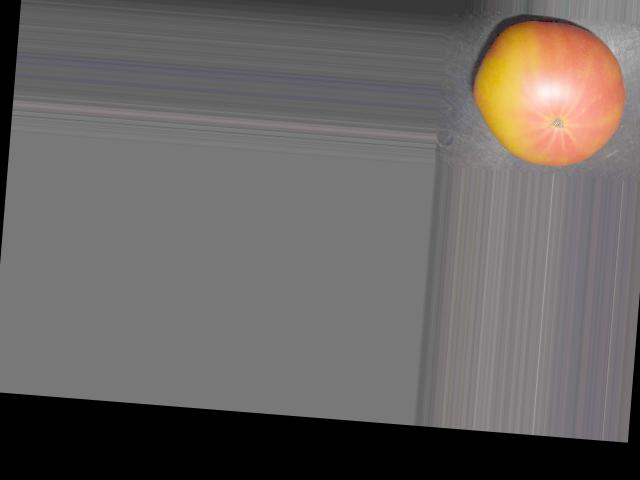tomato: (469, 15, 630, 170)
